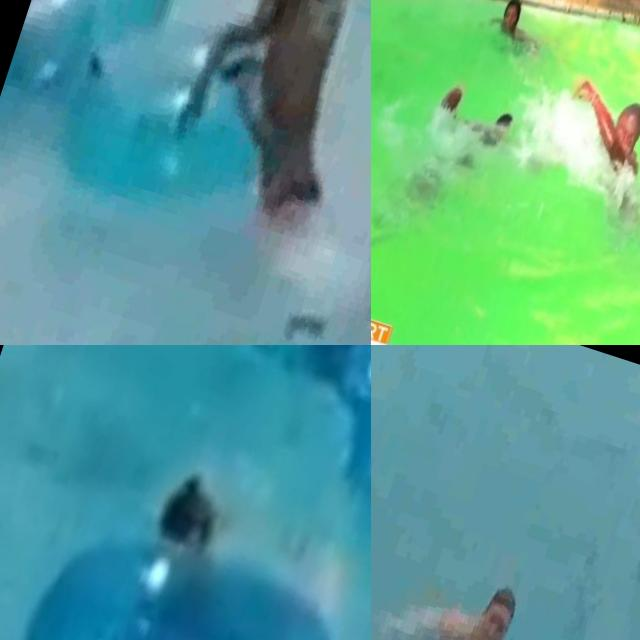drowning: (371, 495, 594, 640), (138, 401, 294, 573), (400, 72, 530, 220), (282, 130, 371, 345)
swimming: (178, 0, 371, 257), (534, 76, 640, 255), (474, 0, 566, 78)
